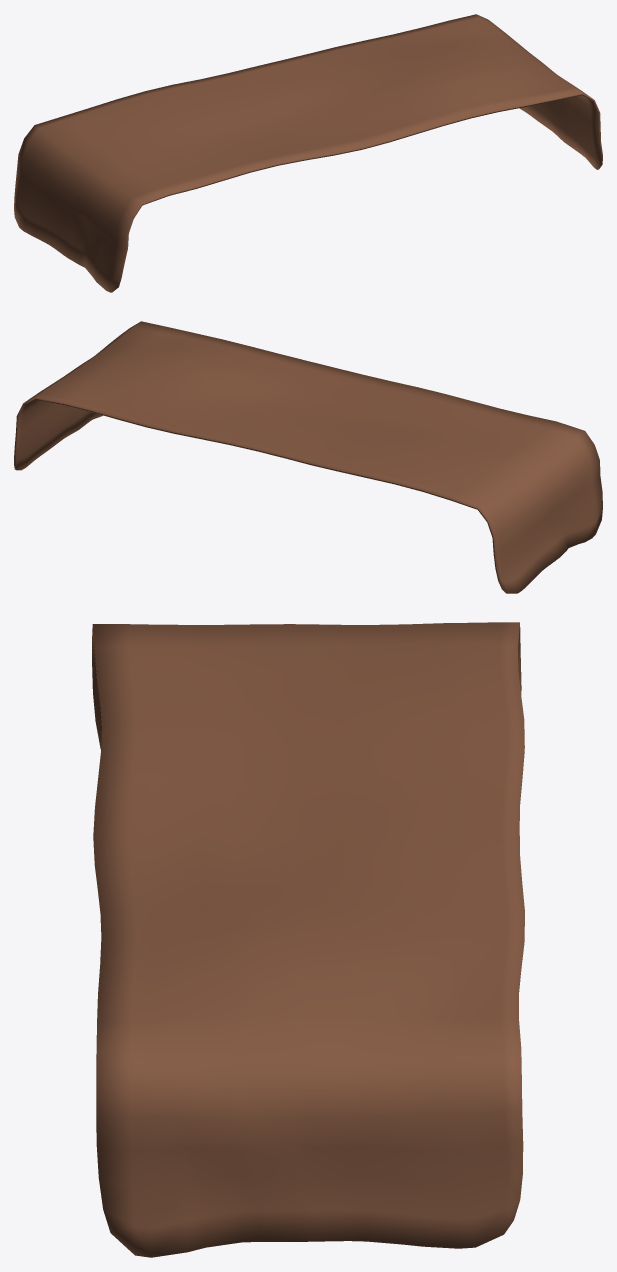
File: ExtraBlanket.glb
The picture shows the model from 3 angles, top to bottom: view 1: azimuth 30°, elevation 25°; view 2: azimuth 150°, elevation 25°; view 3: azimuth 270°, elevation 25°; orthographic projection. The views are drawn at different scales.
Parts seen in each view (by area): view 1: Extra Blanket; view 2: Extra Blanket; view 3: Extra Blanket.
Boxes of the visible parts, <box> form: Extra Blanket: <box>14,14,602,292</box>; Extra Blanket: <box>14,321,602,593</box>; Extra Blanket: <box>92,622,524,1257</box>.
Size of the model in its own units: 2.2 by 0.441 by 0.8291.
